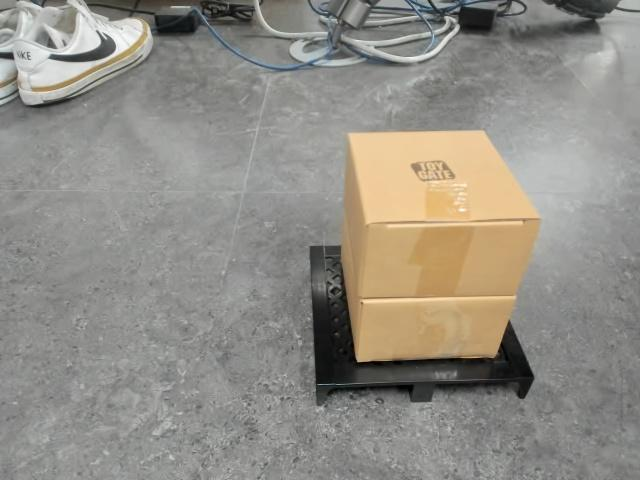box: (309, 129, 543, 409)
